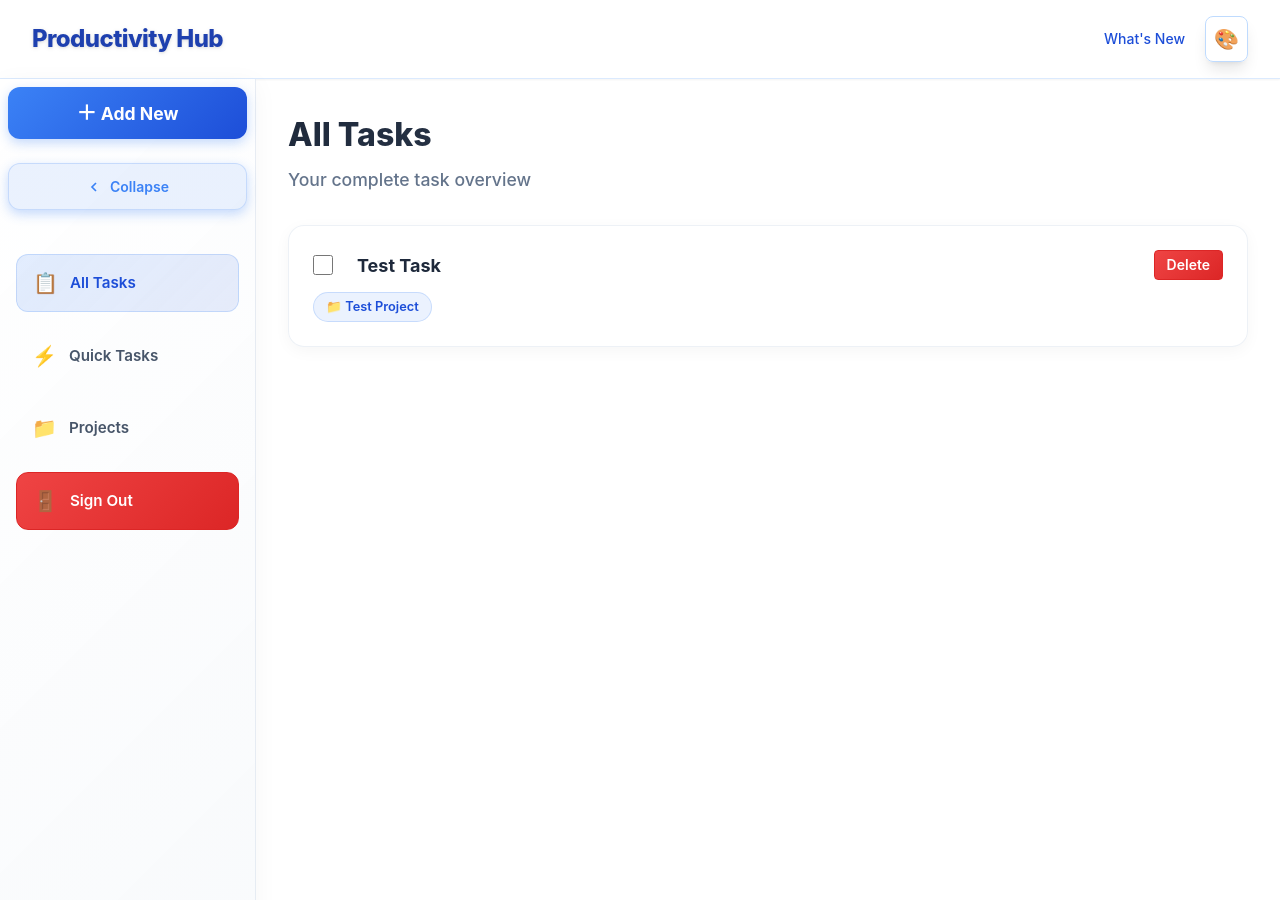
Test: Task Form › opens task details when clicking on task title
Click the button "📁 Projects" at point(128, 428), box [16, 400, 239, 456]
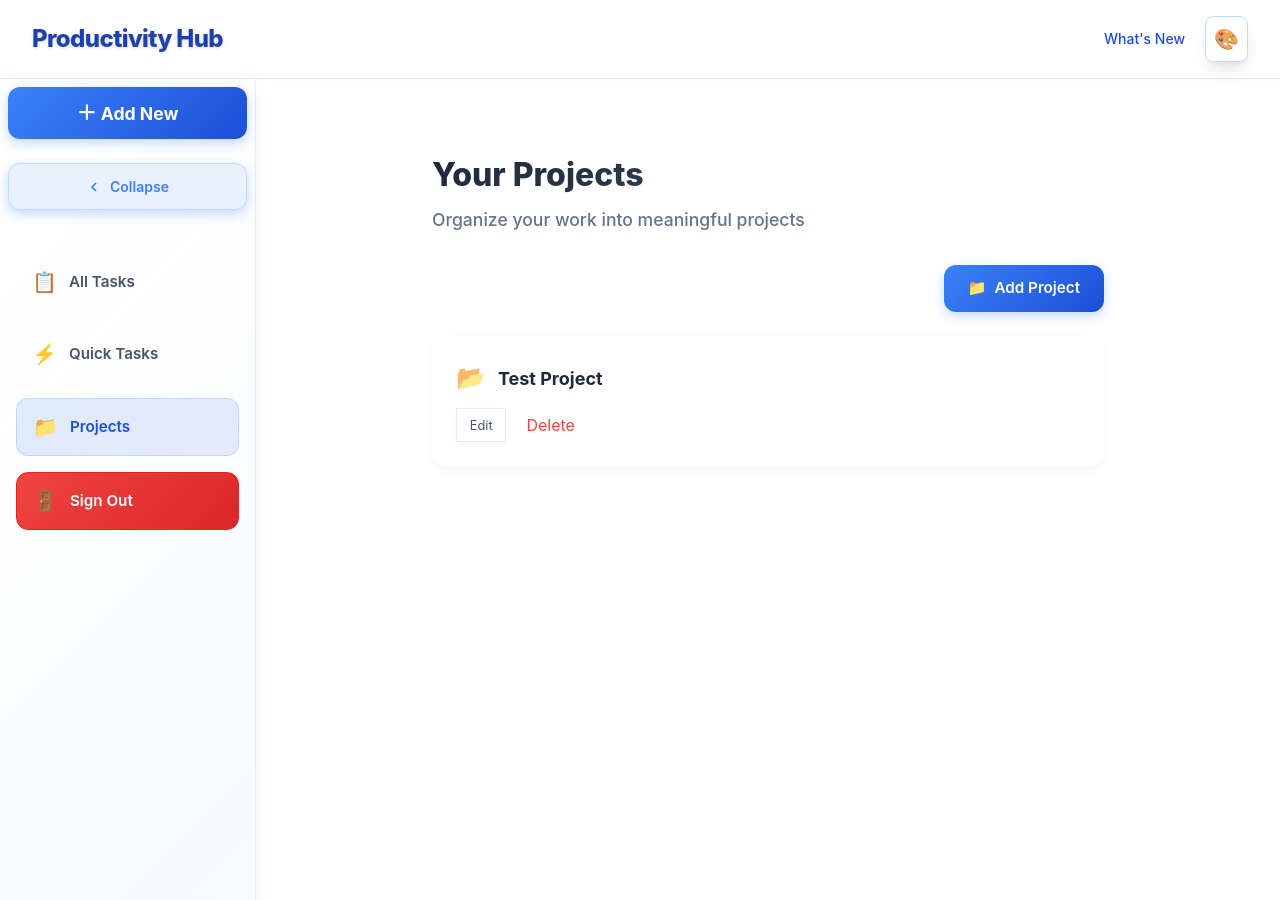
Click the text "Test Project" at point(550, 378), box [498, 368, 603, 389]
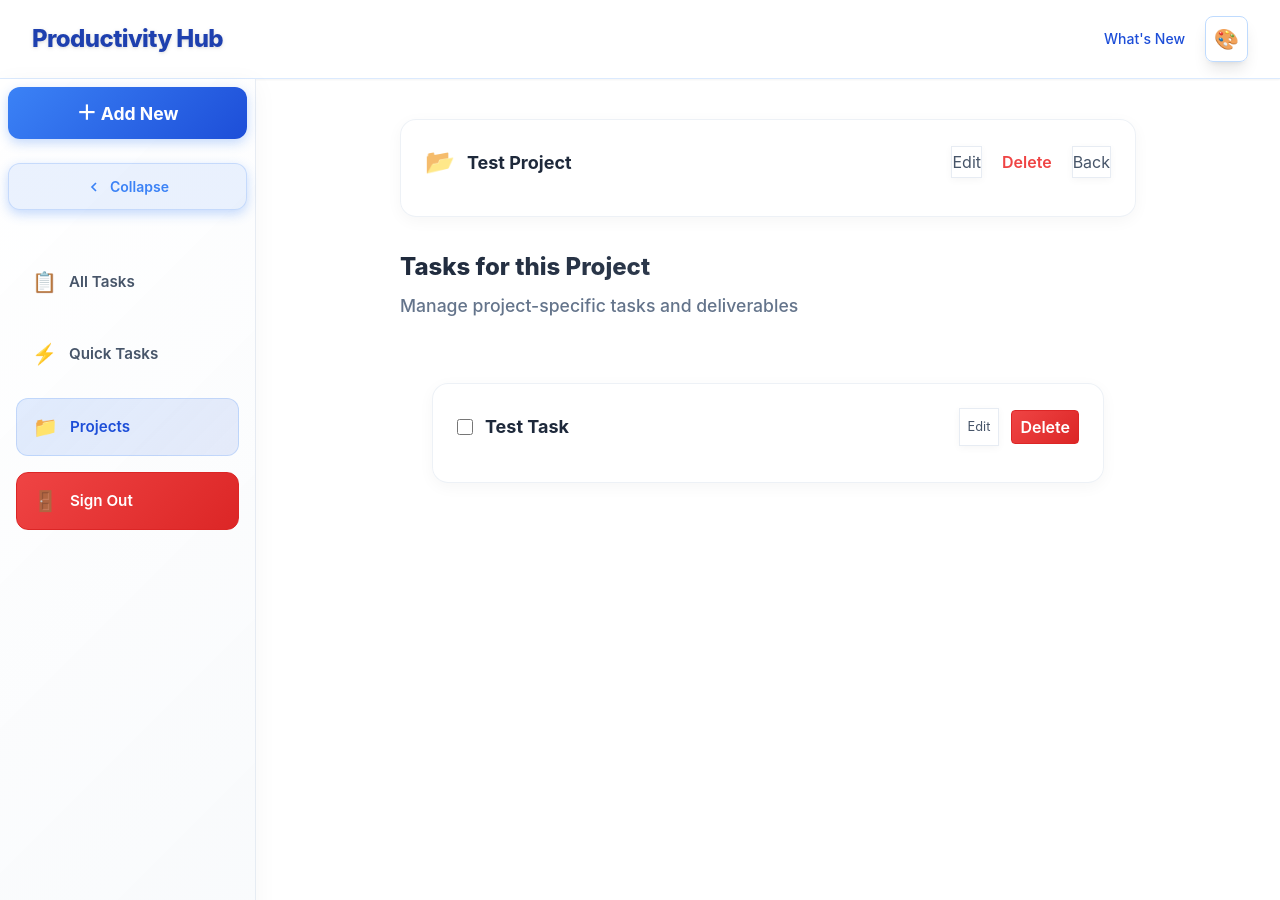
Result: the button "Test Task" is shown
Click the button "Test Task" at point(527, 427), box [485, 414, 946, 440]
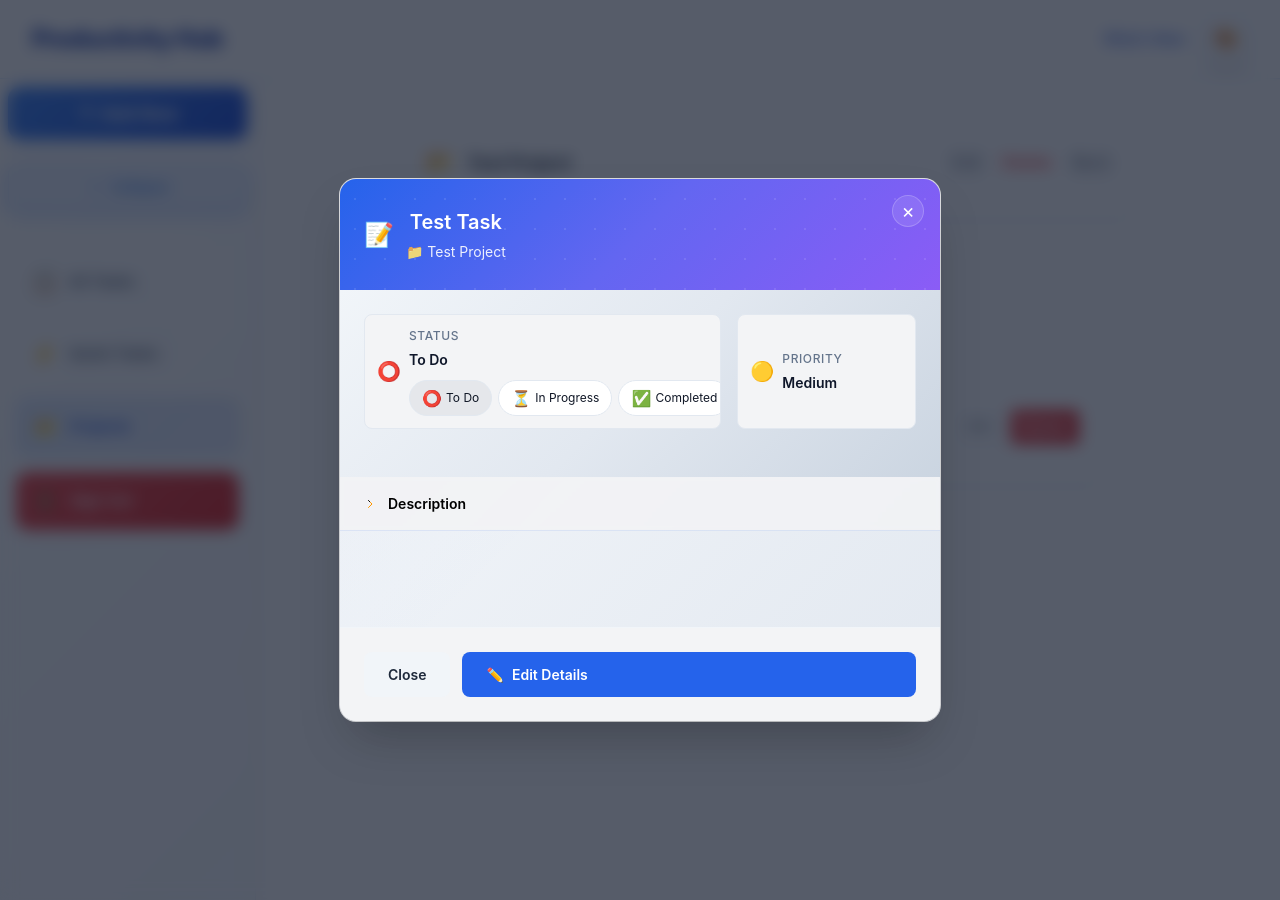
Result: the element with test id "task-details" is shown at [340, 179, 940, 721]
